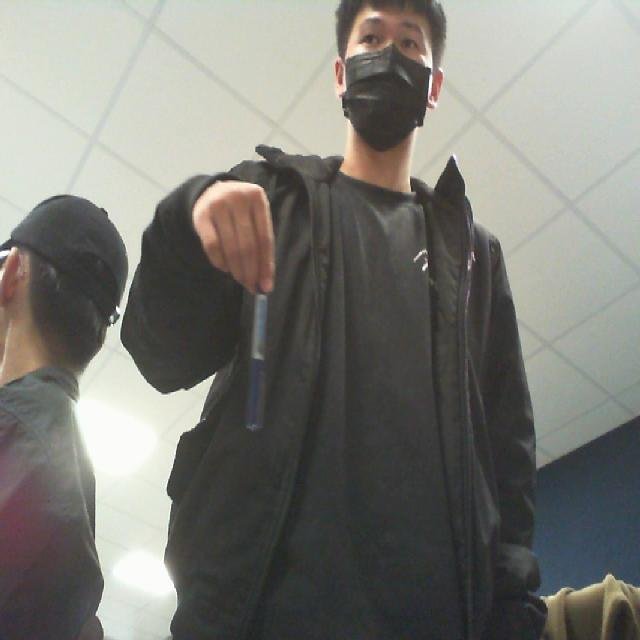Pen: (234, 277, 288, 469)
